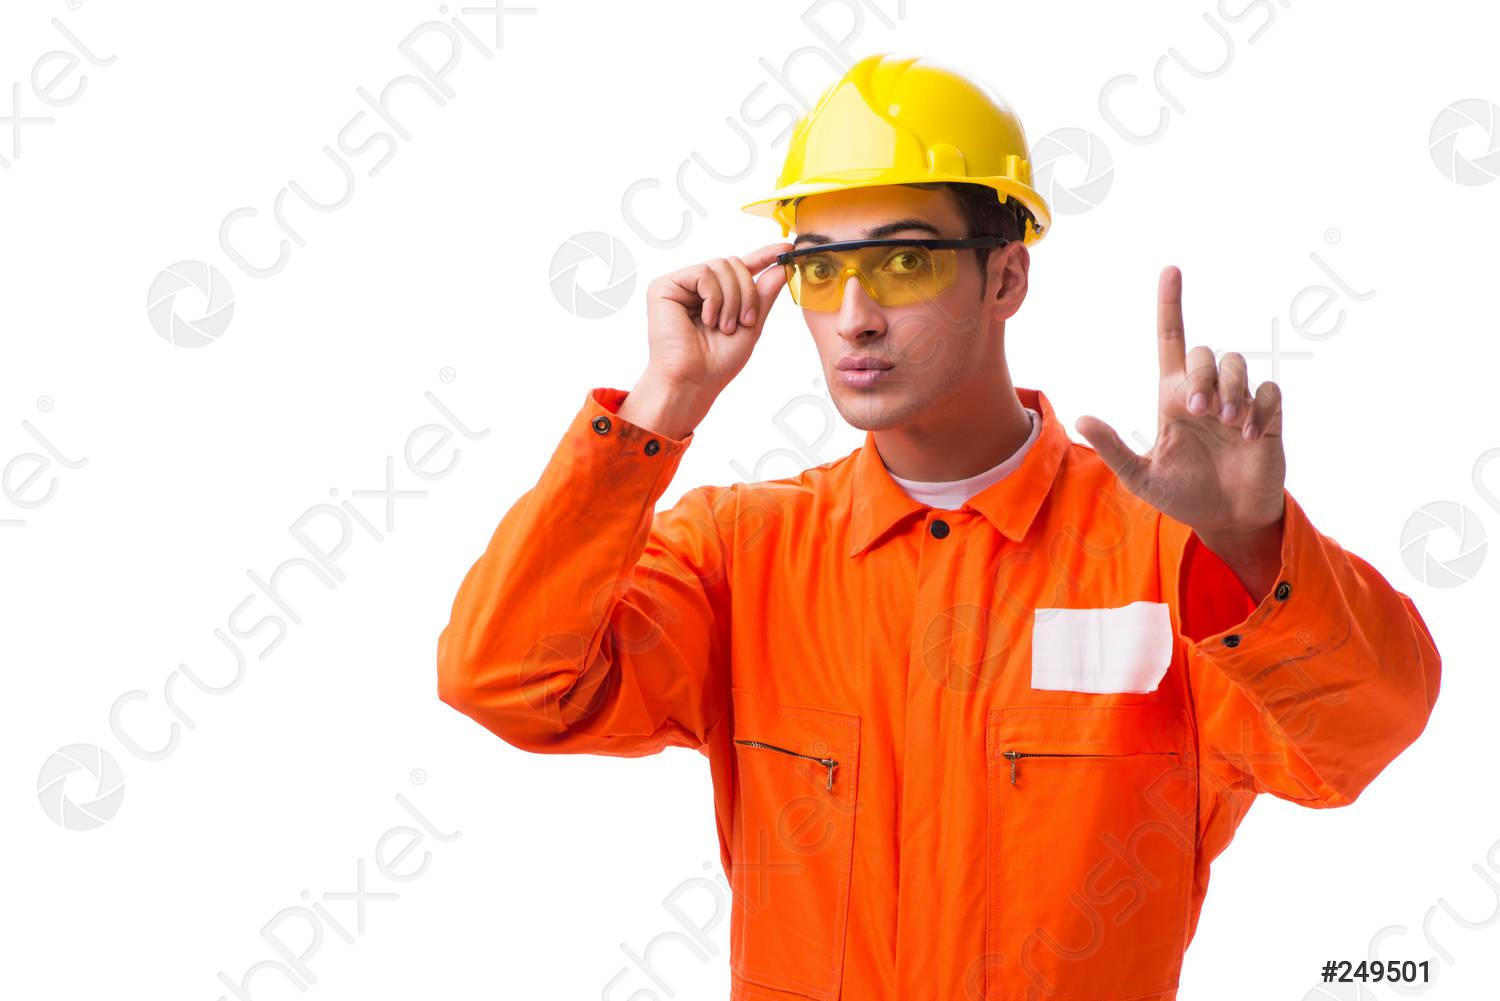hardhat: (736, 52, 1073, 213)
worker: (437, 51, 1447, 1001)
